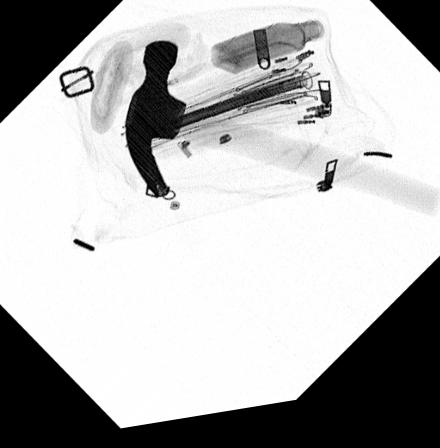Hammer: (124, 43, 437, 235)
